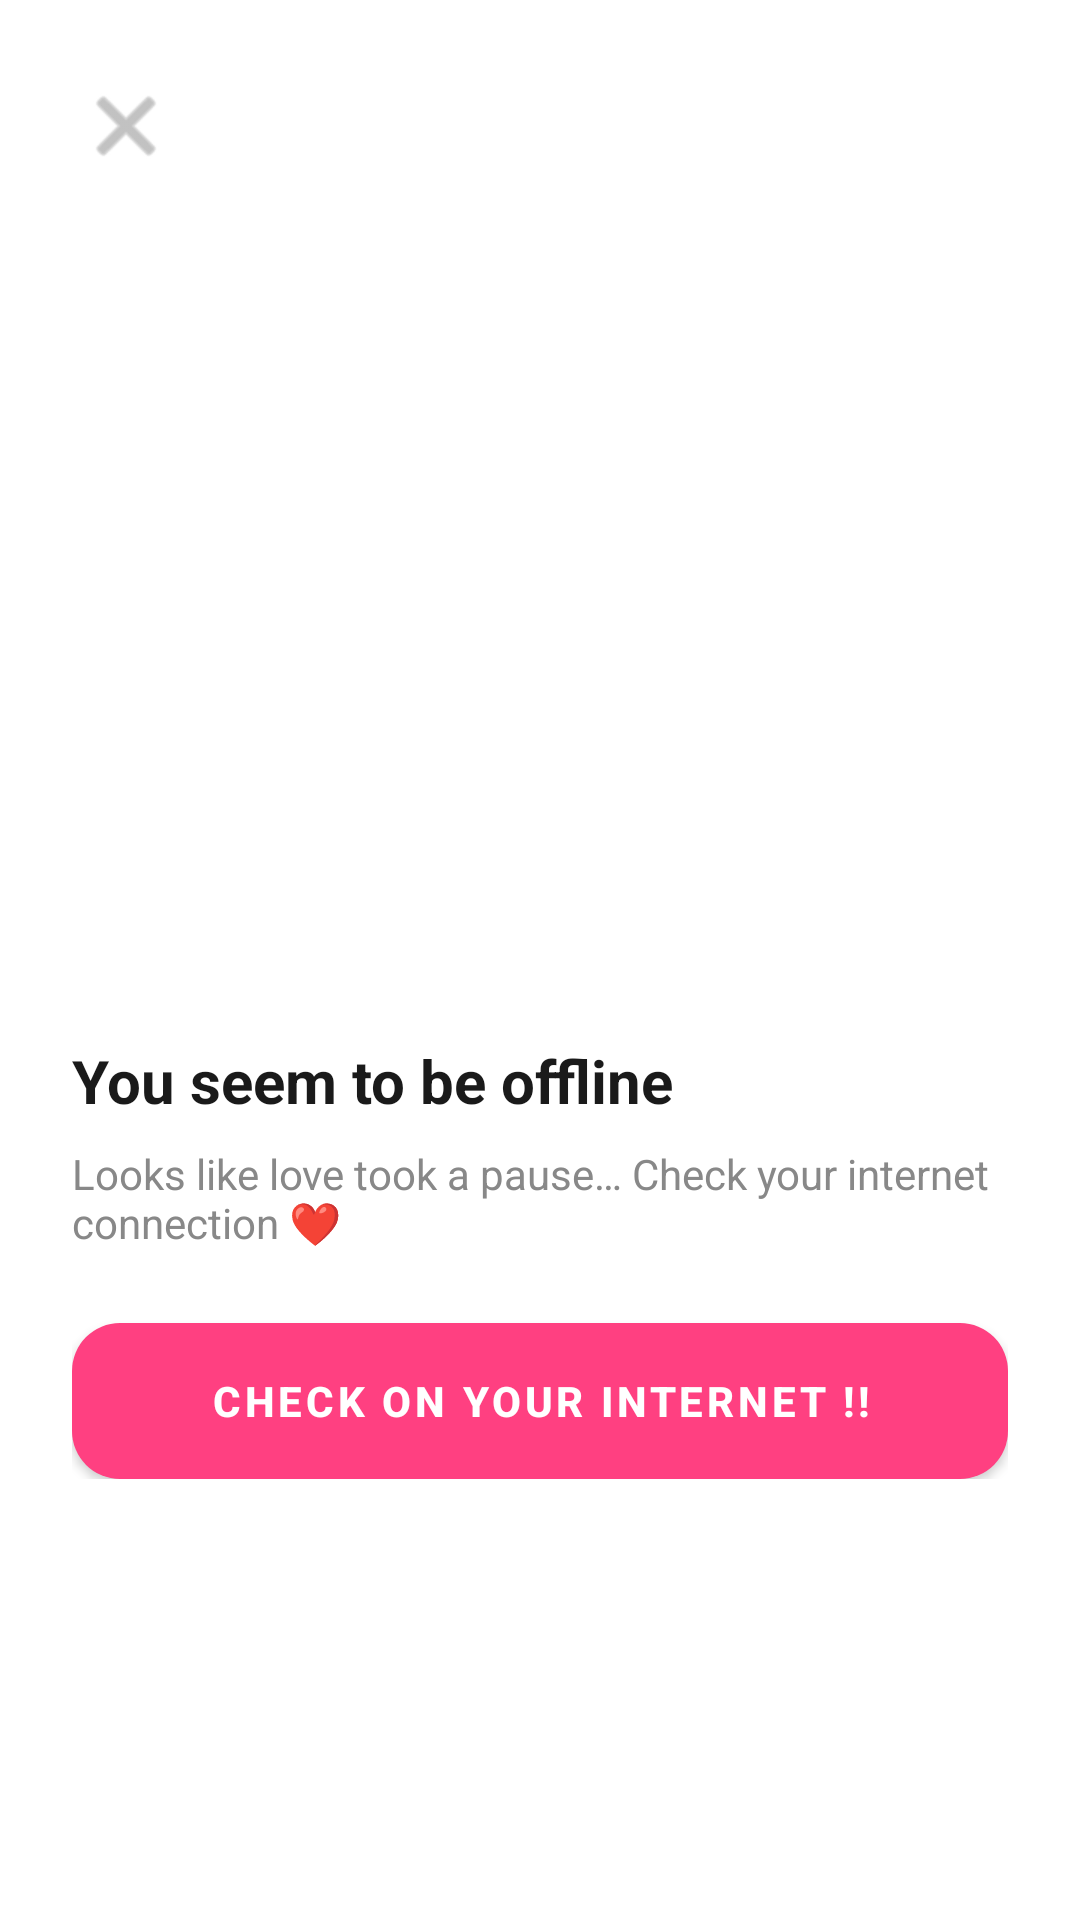

Locate icon controls on the screen. Image size 1080 x 1920, boxes as rect(x1, y1, x2, y2).
Close: rect(97, 97, 155, 155)
